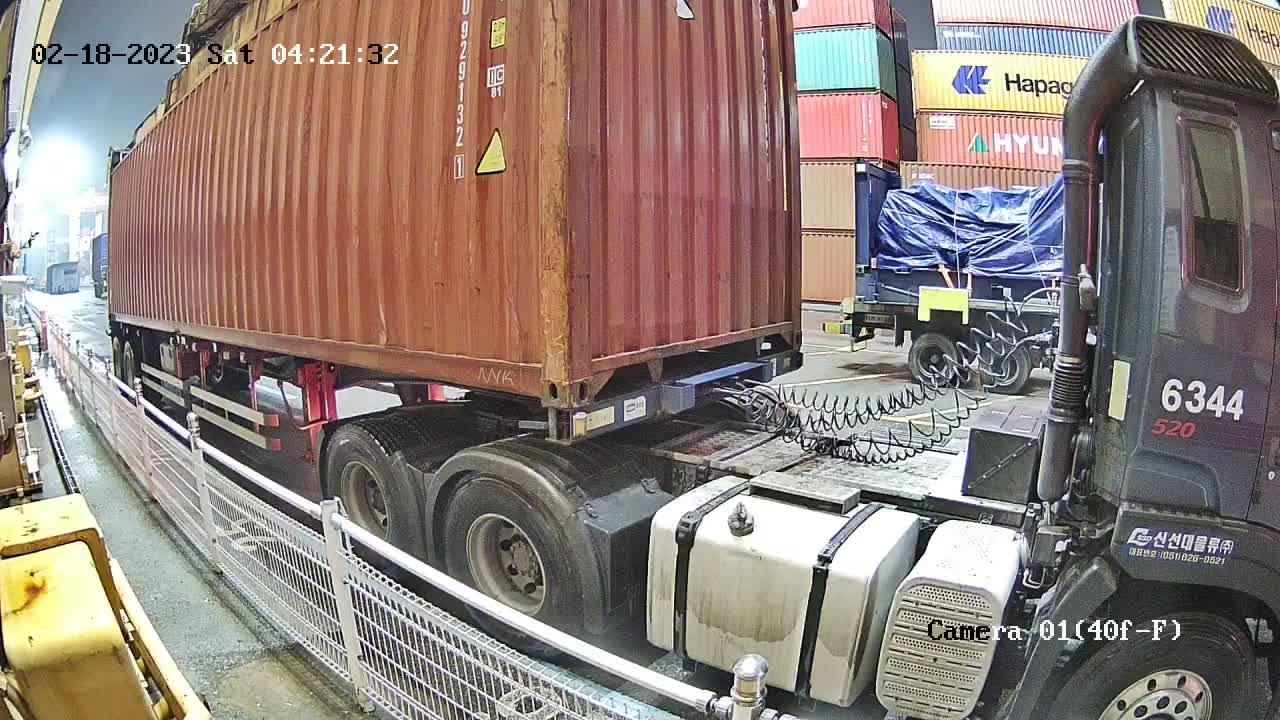Chassis: (539, 351, 803, 440)
Cone: (541, 405, 566, 444)
Hole_L: (567, 333, 625, 409)
Hole_R: (515, 336, 566, 409), (761, 301, 801, 356)
Tire: (441, 473, 584, 653), (323, 430, 409, 572)
